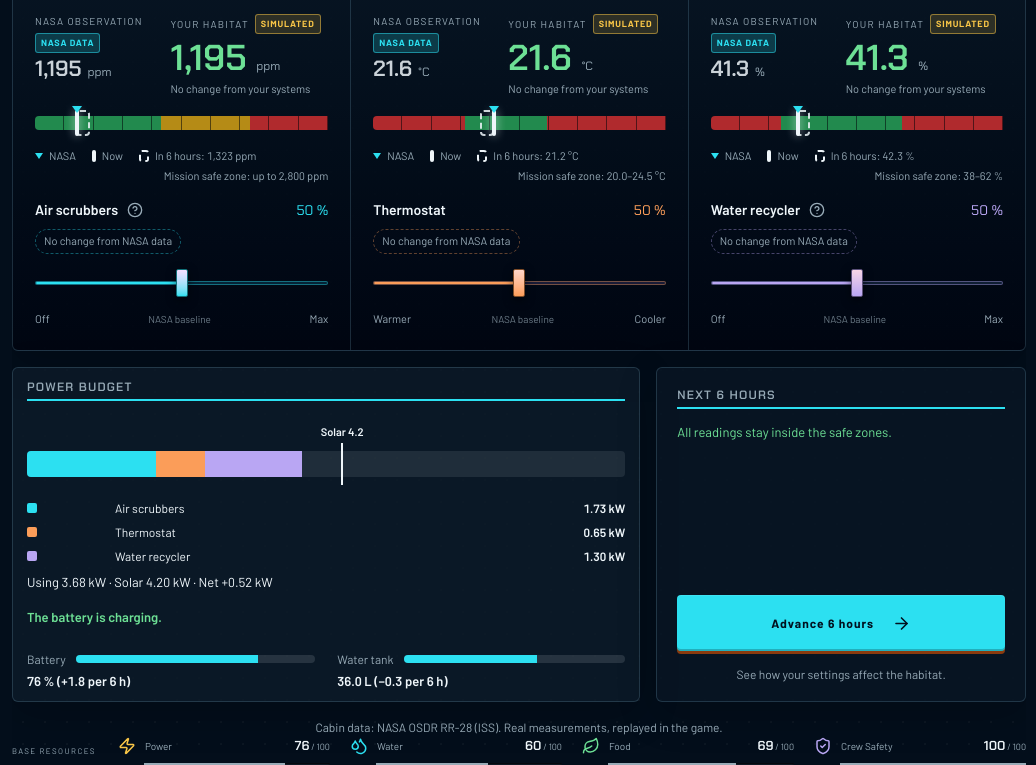
Test: Advance 6 hours › explains what changed with arrows and a one-line verdict, collapses itself, and can be reopened
The image size is (1036, 765).
(page scrolled)
What coordinates should you click on to do the following:
click the button "Advance 6 hours"
I would click on:
 (841, 624)
Its box is [677,596,1005,652].
Wait 8000 ms
(page scrolled)
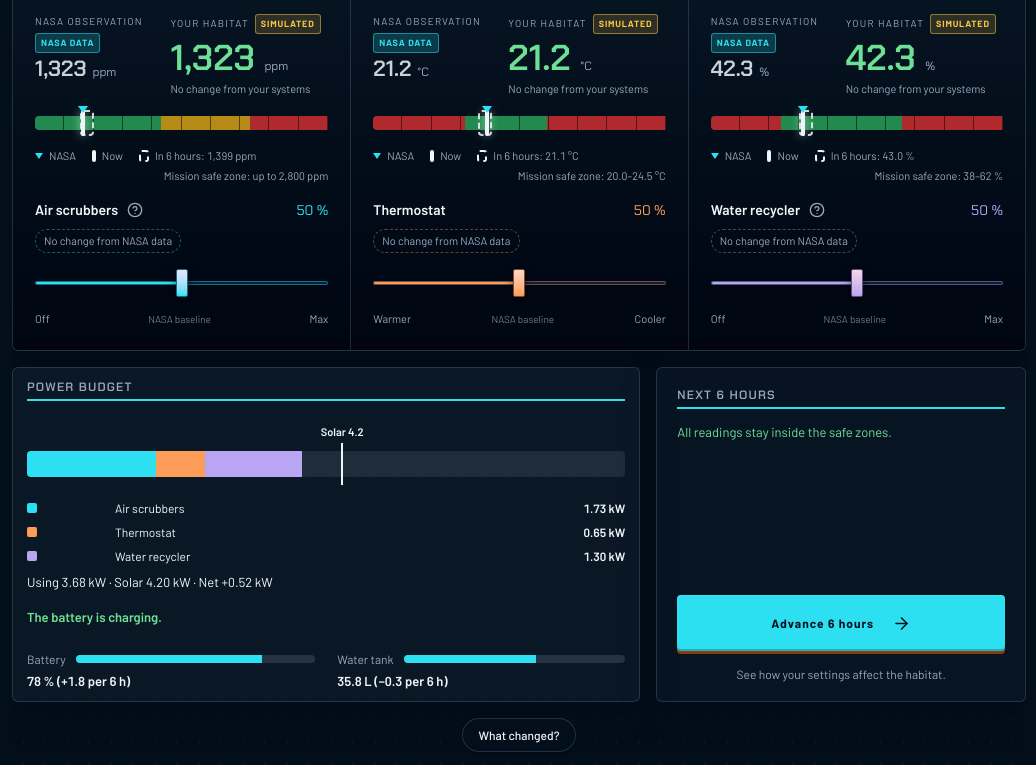
Expected: the element "6 hours later" is not shown
What coordinates should you click on to do the following:
click the button "What changed?"
I would click on:
 (519, 735)
Its box is [462,718,576,752].
(page scrolled)
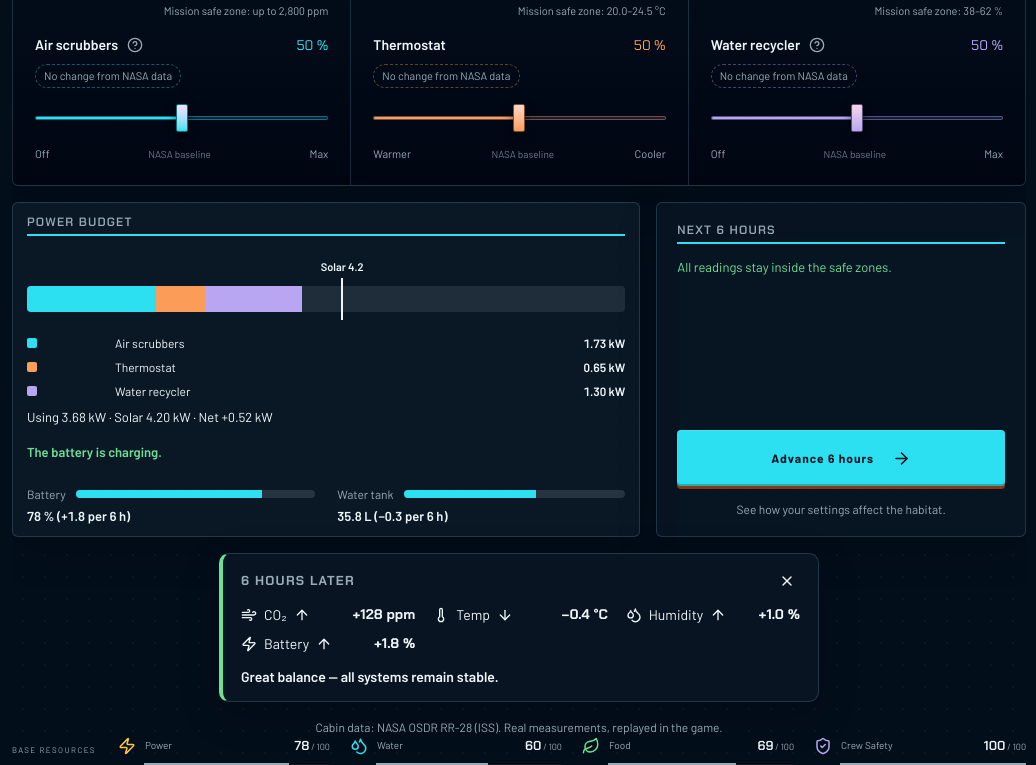
Expected: the element "6 hours later" is shown, [219,553,819,702]
